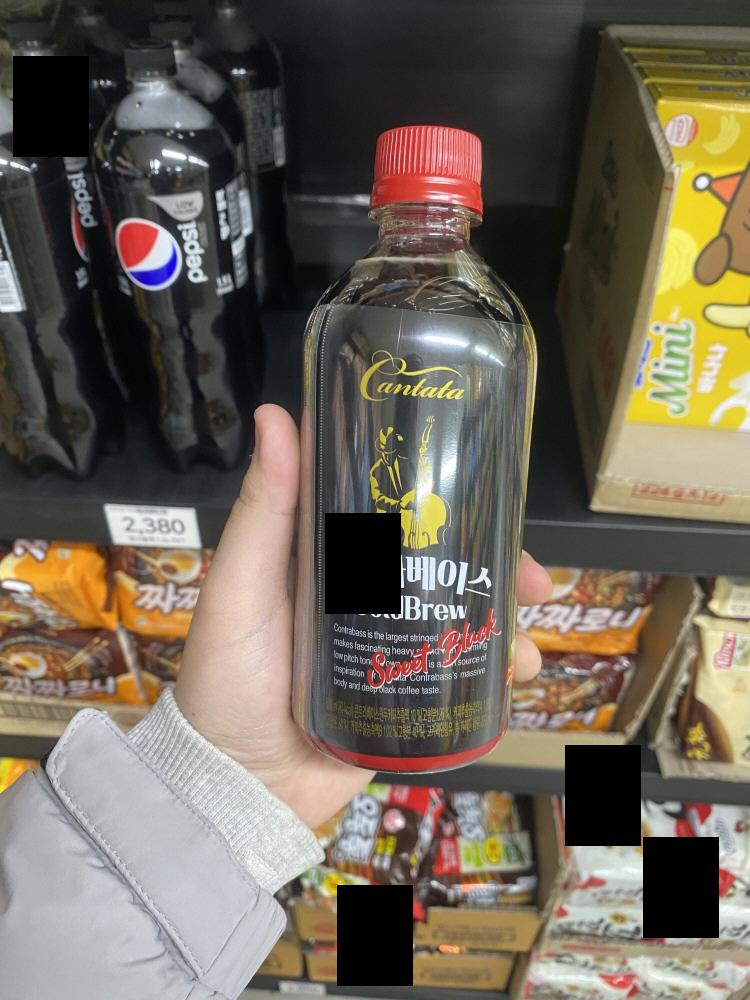contrabass_sweetblack: (301, 110, 535, 769)
